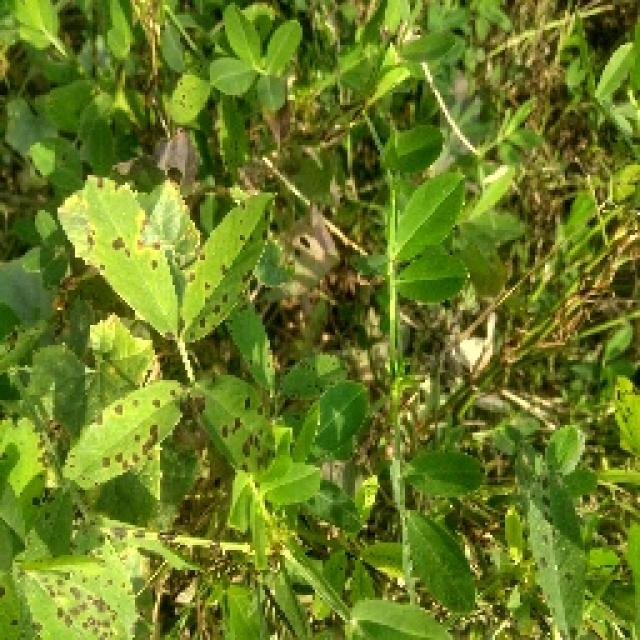Yellowish: (79, 354, 312, 510), (73, 178, 280, 350), (514, 431, 608, 640), (2, 536, 176, 640), (10, 404, 100, 567)
